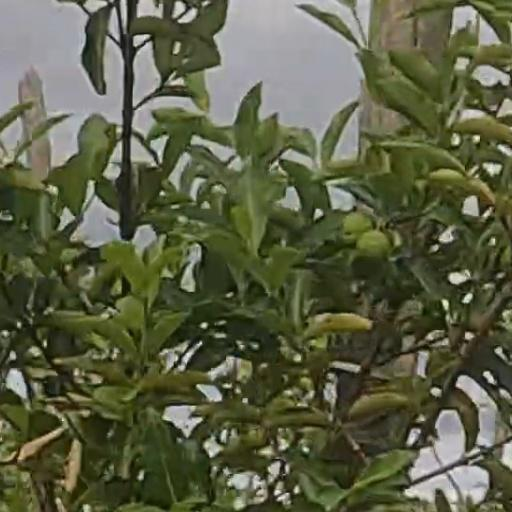acerola: (358, 232, 392, 258), (342, 213, 367, 240)
